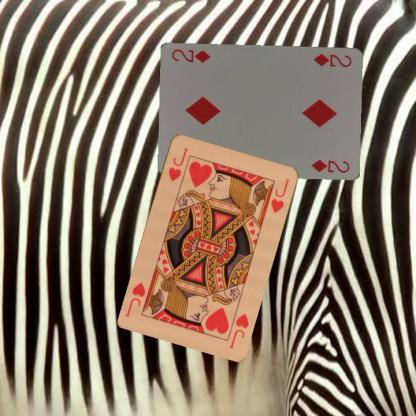2d: (311, 50, 353, 68)
Jh: (224, 304, 250, 349), (165, 144, 190, 182)
